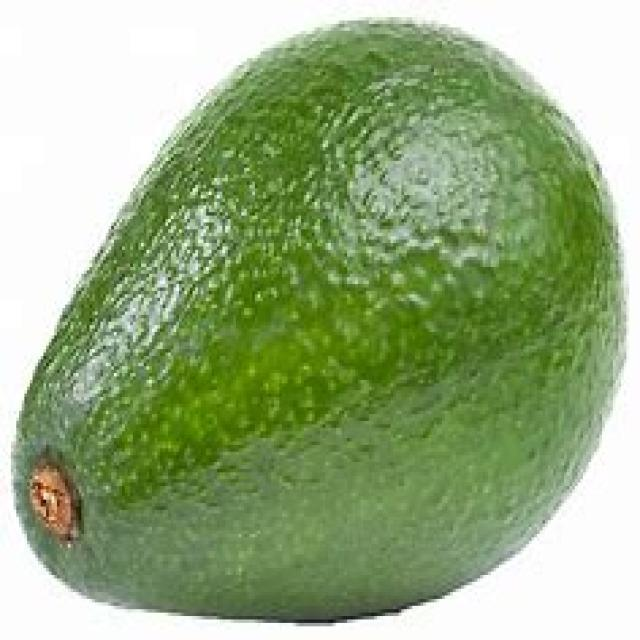avocado: (8, 28, 634, 634)
